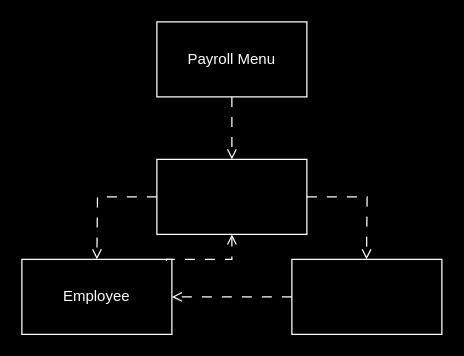
Image size: 464x356. Some labels were removed from this diagram. The centre of each missing label's shape, as x and y in pixels:
"Payroll" belongs at point 231,196.
"Payslip" belongs at point 366,296.
